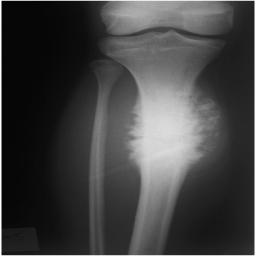cancer: (122, 90, 223, 173)
